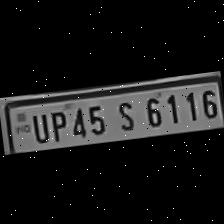1: (161, 88, 183, 124), (177, 87, 198, 122)
4: (66, 103, 88, 139)
5: (82, 99, 109, 136)
6: (138, 91, 164, 129), (196, 84, 220, 120)
P: (44, 105, 68, 141)
S: (110, 95, 139, 132)
U: (26, 108, 50, 144)
